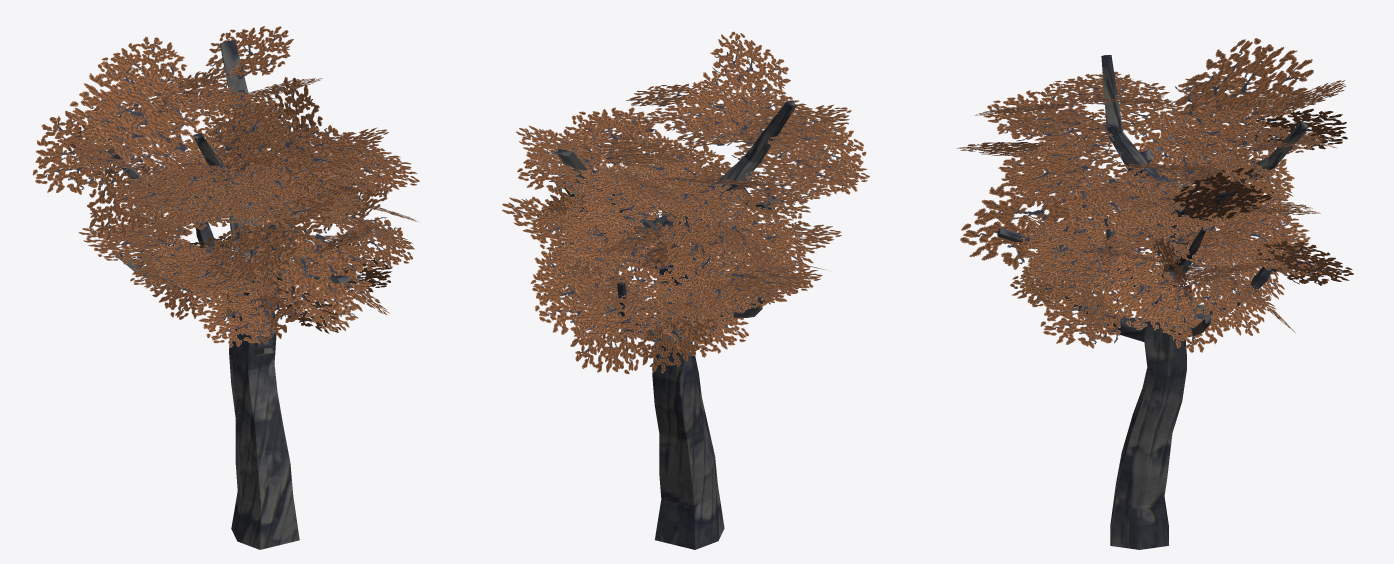
File: ThickTreeWithAlotofleaves.fbx
The picture shows the model from 3 angles, left to right: view 1: azimuth 30°, elevation 25°; view 2: azimuth 150°, elevation 25°; view 3: azimuth 270°, elevation 25°; orthographic projection.
Parts seen in each view (by area): view 1: Treebody.004, Plane.180, Plane.212, Plane.149, Plane.166, Plane.155, Plane.151, Plane.218, Plane.222, Plane.147, Plane.228, Plane.182 (+34 smaller); view 2: Treebody.004, Plane.163, Plane.151, Plane.156, Plane.152, Plane.149, Plane.198, Plane.187, Plane.179, Plane.172, Plane.208, Plane.147 (+43 smaller); view 3: Treebody.004, Plane.180, Plane.212, Plane.170, Plane.186, Plane.207, Plane.176, Plane.184, Plane.188, Plane.164, Plane.178, Plane.229 (+36 smaller).
Boxes of the visible parts, left/top/right/bottom form: Treebody.004: left=111, top=40, right=349, bottom=549; Plane.180: left=69, top=60, right=200, bottom=170; Plane.212: left=240, top=218, right=372, bottom=315; Plane.149: left=271, top=125, right=366, bottom=193; Plane.166: left=203, top=224, right=301, bottom=283; Plane.155: left=32, top=110, right=112, bottom=194; Plane.151: left=205, top=98, right=299, bottom=157; Plane.218: left=191, top=282, right=273, bottom=347; Plane.222: left=205, top=26, right=293, bottom=78; Plane.147: left=87, top=160, right=166, bottom=241; Plane.228: left=149, top=157, right=242, bottom=202; Plane.182: left=157, top=250, right=257, bottom=299; Treebody.004: left=557, top=101, right=796, bottom=549; Plane.163: left=532, top=246, right=608, bottom=340; Plane.151: left=678, top=70, right=758, bottom=145; Plane.156: left=660, top=208, right=732, bottom=291; Plane.152: left=562, top=196, right=636, bottom=276; Plane.149: left=710, top=31, right=790, bottom=100; Plane.198: left=578, top=163, right=659, bottom=228; Plane.187: left=636, top=294, right=717, bottom=373; Plane.179: left=640, top=169, right=735, bottom=224; Plane.172: left=569, top=280, right=659, bottom=343; Plane.208: left=777, top=153, right=869, bottom=196; Plane.147: left=727, top=203, right=813, bottom=271; Treebody.004: left=997, top=55, right=1307, bottom=549; Plane.180: left=1171, top=38, right=1313, bottom=132; Plane.212: left=960, top=163, right=1100, bottom=269; Plane.170: left=1095, top=251, right=1191, bottom=330; Plane.186: left=998, top=144, right=1090, bottom=206; Plane.207: left=1024, top=219, right=1103, bottom=282; Plane.176: left=1040, top=273, right=1127, bottom=348; Plane.184: left=1064, top=179, right=1167, bottom=232; Plane.188: left=1162, top=105, right=1261, bottom=161; Plane.164: left=1172, top=168, right=1273, bottom=225; Plane.178: left=1133, top=105, right=1226, bottom=180; Plane.229: left=1158, top=274, right=1242, bottom=352.
Size of the model in its own units: 1642 by 1982 by 1820.
